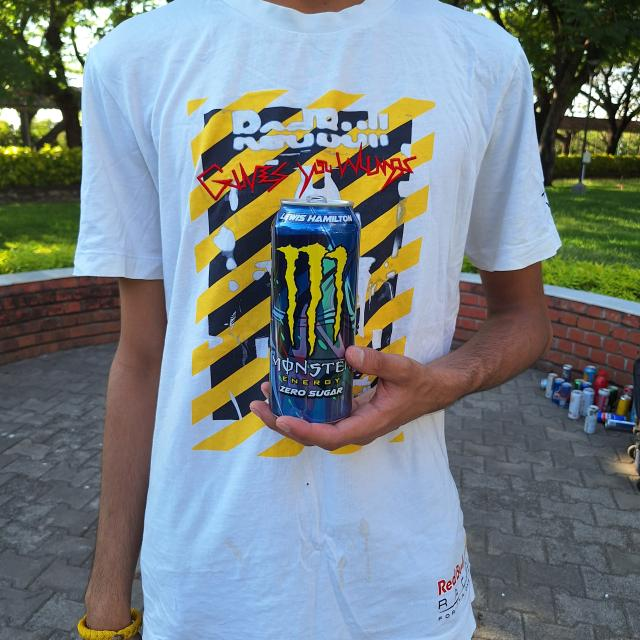Monster LH44: (263, 196, 361, 421)
